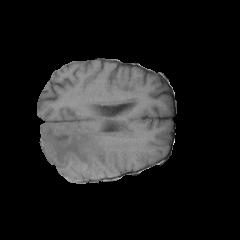glioma: (40, 122, 131, 177)
